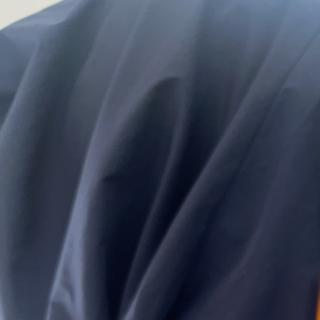fire: (310, 284, 320, 320)
